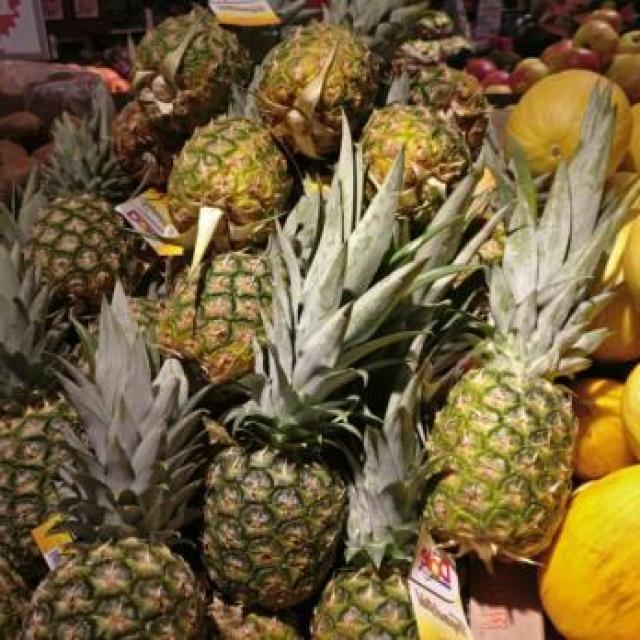pineapple: (204, 119, 419, 612), (426, 88, 635, 564), (22, 284, 208, 640), (0, 195, 75, 640), (312, 368, 429, 639), (256, 0, 426, 159), (30, 112, 130, 309), (132, 0, 280, 131), (158, 252, 271, 382), (168, 118, 292, 223), (361, 105, 470, 219), (209, 596, 301, 639)
